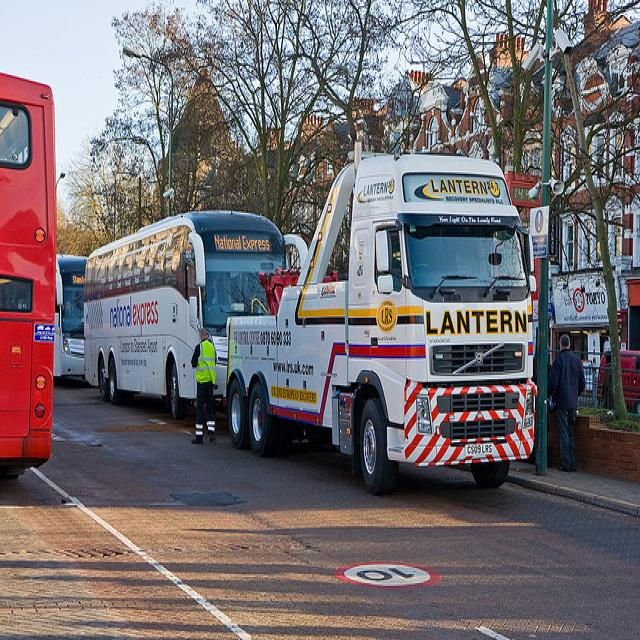Vehicle: (219, 156, 536, 494), (79, 204, 309, 430), (1, 71, 58, 482), (56, 250, 84, 384), (595, 349, 640, 413)
